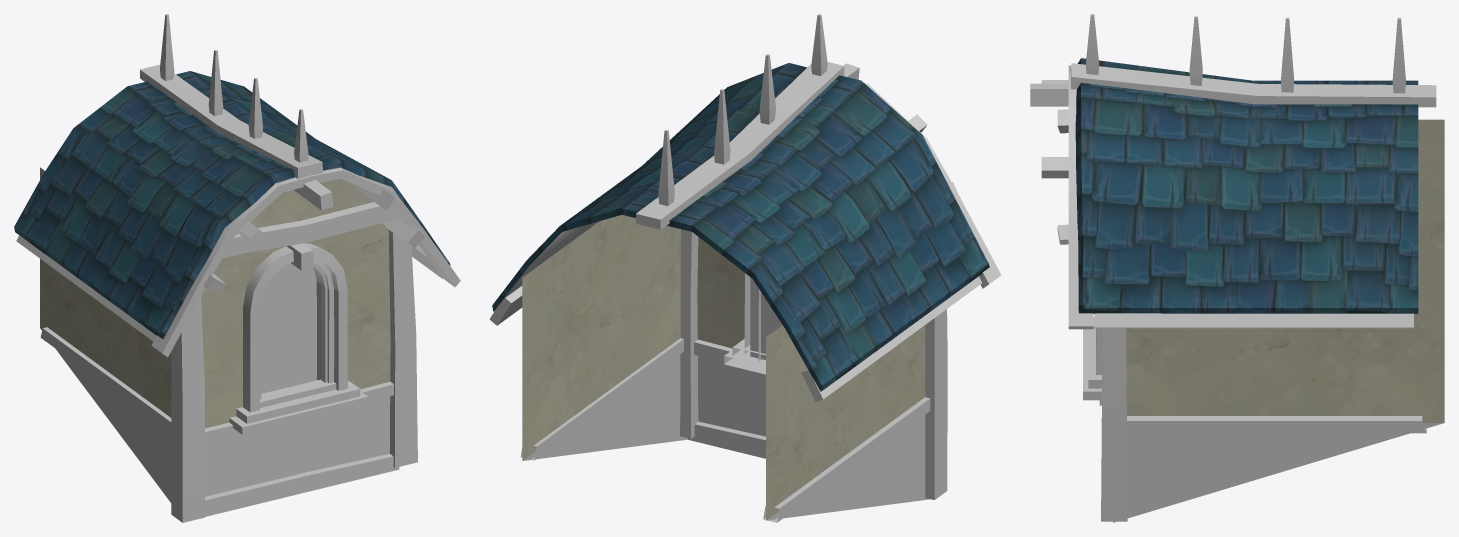
The model's file is A_Addon_Window_A.fbx.
The picture shows the model from 3 angles, left to right: view 1: azimuth 30°, elevation 25°; view 2: azimuth 150°, elevation 25°; view 3: azimuth 270°, elevation 25°; orthographic projection. The views are drawn at different scales.
Visible parts, largest first — view 1: A_Addon_Window_A_KitPart, A_Addon_Window_A_Tiles, A_Addon_Window_A; view 2: A_Addon_Window_A_Tiles, A_Addon_Window_A_KitPart, A_Addon_Window_A; view 3: A_Addon_Window_A_Tiles, A_Addon_Window_A_KitPart, A_Addon_Window_A.
Boxes of the visible parts, box(x1,y1,x2,y2) form: A_Addon_Window_A_KitPart: box(16, 14, 460, 522); A_Addon_Window_A_Tiles: box(14, 71, 450, 339); A_Addon_Window_A: box(40, 167, 390, 428); A_Addon_Window_A_Tiles: box(492, 63, 989, 391); A_Addon_Window_A_KitPart: box(489, 14, 1001, 522); A_Addon_Window_A: box(522, 215, 925, 520); A_Addon_Window_A_Tiles: box(1075, 58, 1418, 313); A_Addon_Window_A_KitPart: box(1030, 14, 1443, 522); A_Addon_Window_A: box(1126, 119, 1444, 422).
Size of what is drawn, in the model's own units: 250 by 314 by 263.
